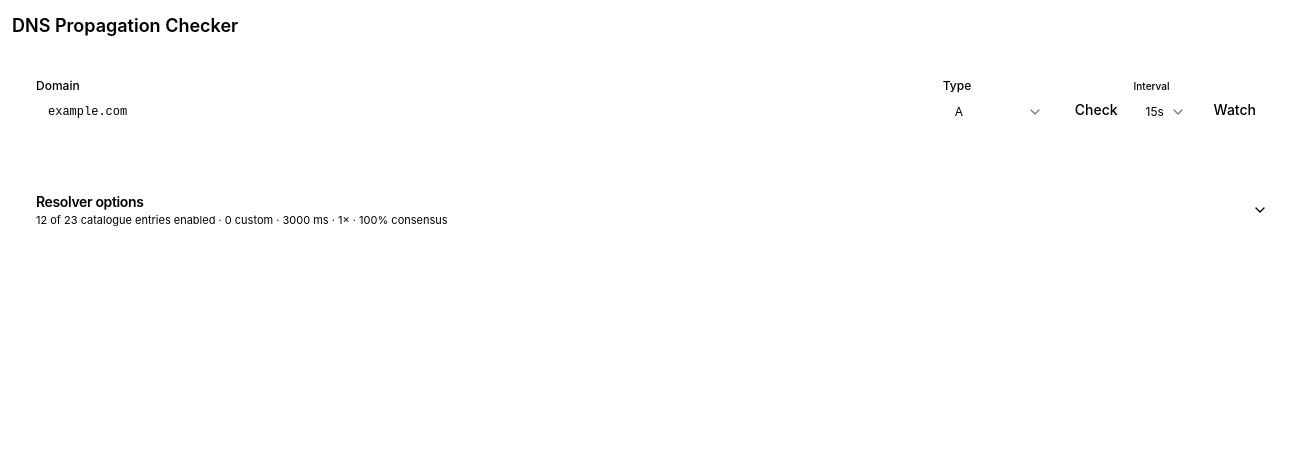
it: preserves rejected lookup diagnostics and allows an explicit retry
This screenshot has width=1292, height=476.
Click the button "Check" at (1096, 110), box [1063, 92, 1130, 128]
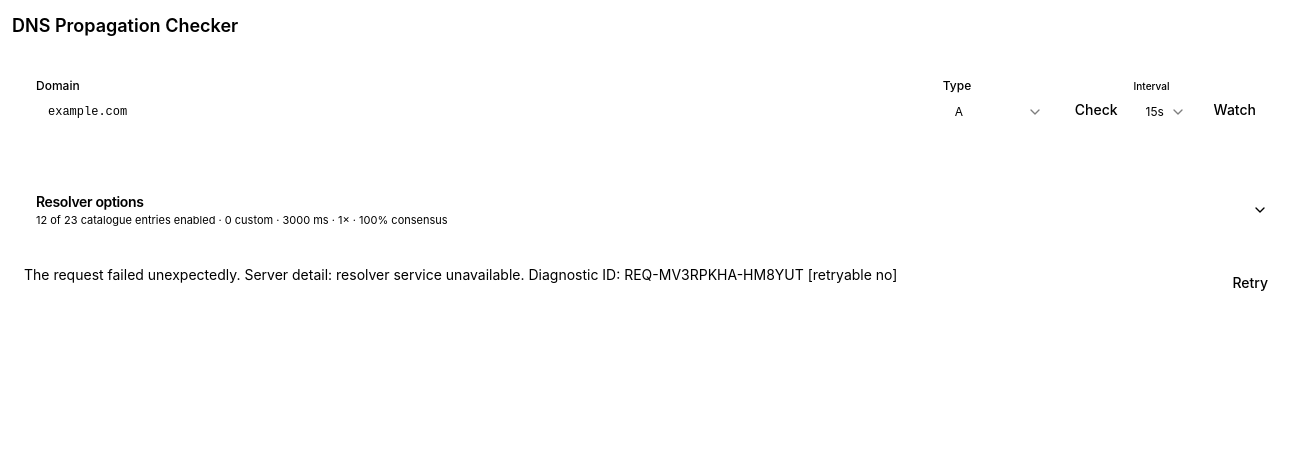
Result: the message shows "resolver service unavailable" at [24, 266, 897, 282]
Click the button "Retry" at (1250, 282), box [1220, 264, 1280, 300]
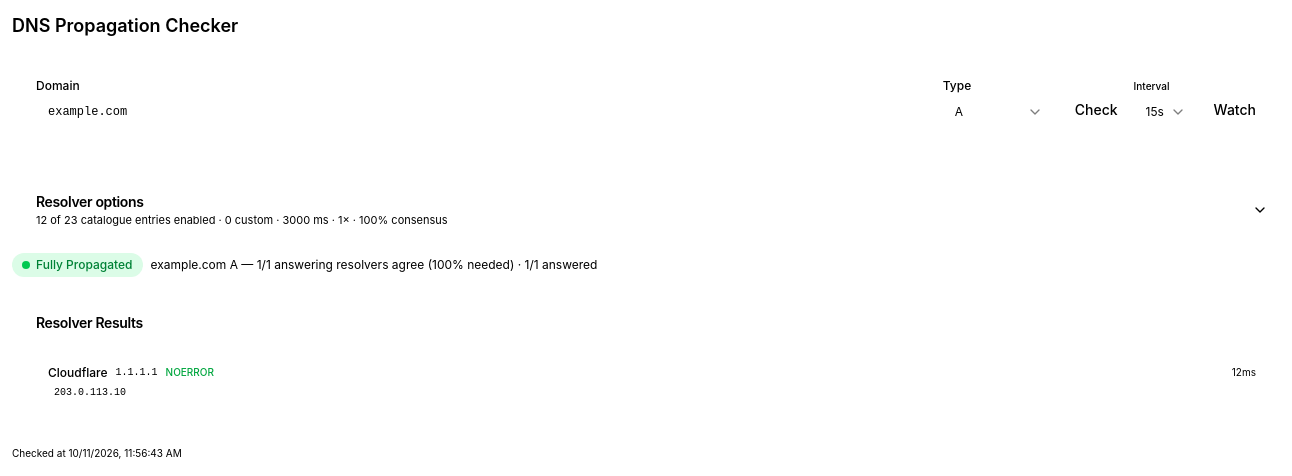
Result: the text "203.0.113.10" is shown at [54, 386, 126, 398]
